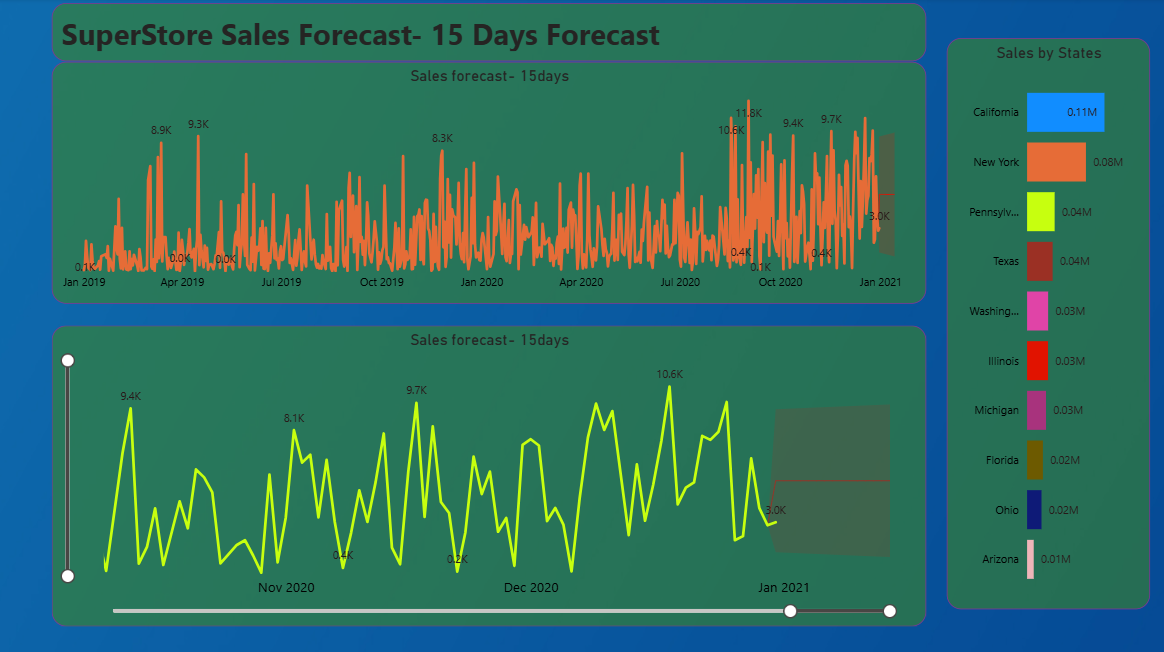

Layout of this report page (visuals, bound fields, positions):
{"tool":"powerbi","page":{"name":"Page 2","canvas":[1280,720],"ordinal":1},"visuals":[{"type":"lineChart","title":"Sales forecast- 15days","fields":{"Y":["Sum(SuperStore_Sales_Dataset.Sales)"],"Category":["SuperStore_Sales_Dataset.Order Date"]},"box":[58.6,70,960,265.7],"z":0},{"type":"lineChart","title":"Sales forecast- 15days","fields":{"Y":["Sum(SuperStore_Sales_Dataset.Sales)"],"Category":["SuperStore_Sales_Dataset.Order Date"]},"box":[58.6,360,960,330],"z":1000},{"type":"clusteredBarChart","title":"Sales by States","fields":{"Y":["Sum(SuperStore_Sales_Dataset.Sales)"],"Category":["SuperStore_Sales_Dataset.State"]},"box":[1041.4,44.3,222.9,627.1],"z":2000},{"type":"textbox","box":[58.6,5.7,960,64.3],"z":3000}]}

Visuals, with their boxes in screenshot pixels (x1, y1, x2, y2), scaled from the page's 1280x720 canvas onto the 1164x652 screenshot:
"Sales forecast- 15days" lineChart: (x1=53, y1=63, x2=926, y2=304)
"Sales forecast- 15days" lineChart: (x1=53, y1=326, x2=926, y2=625)
"Sales by States" clusteredBarChart: (x1=947, y1=40, x2=1150, y2=608)
textbox: (x1=53, y1=5, x2=926, y2=63)
